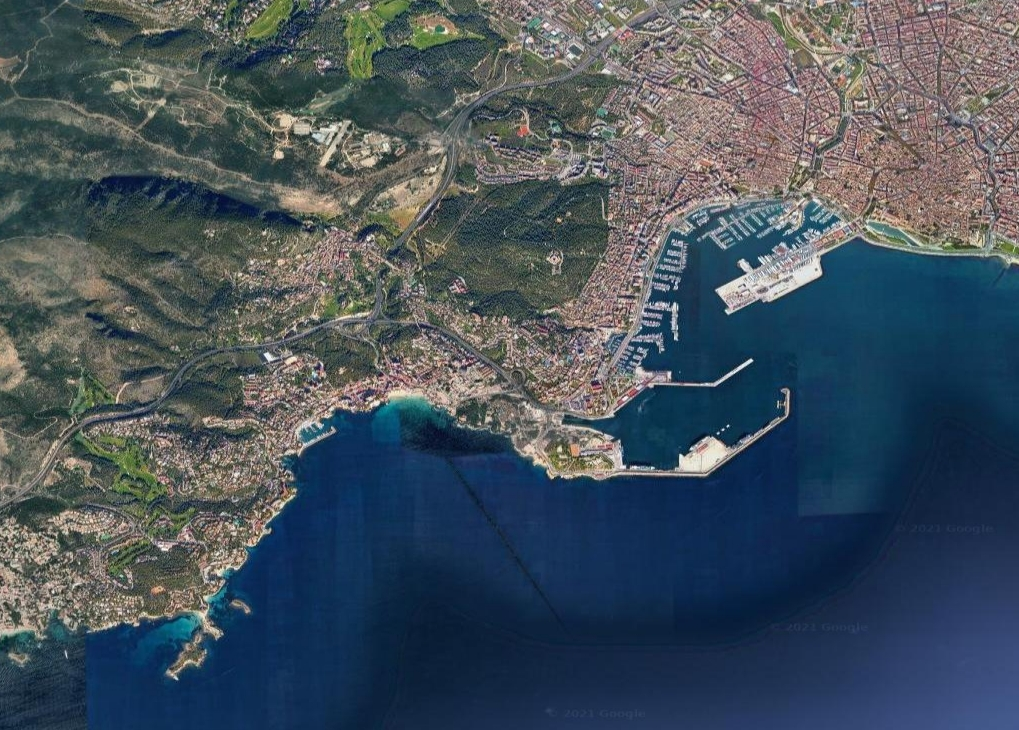harbor: (574, 191, 941, 501), (287, 404, 346, 452)
motorway: (477, 63, 580, 103), (1, 444, 64, 509), (135, 357, 198, 419), (198, 327, 301, 363), (302, 302, 405, 338), (404, 166, 456, 237), (407, 314, 476, 357), (63, 400, 135, 439), (473, 355, 528, 401), (444, 96, 475, 165)
